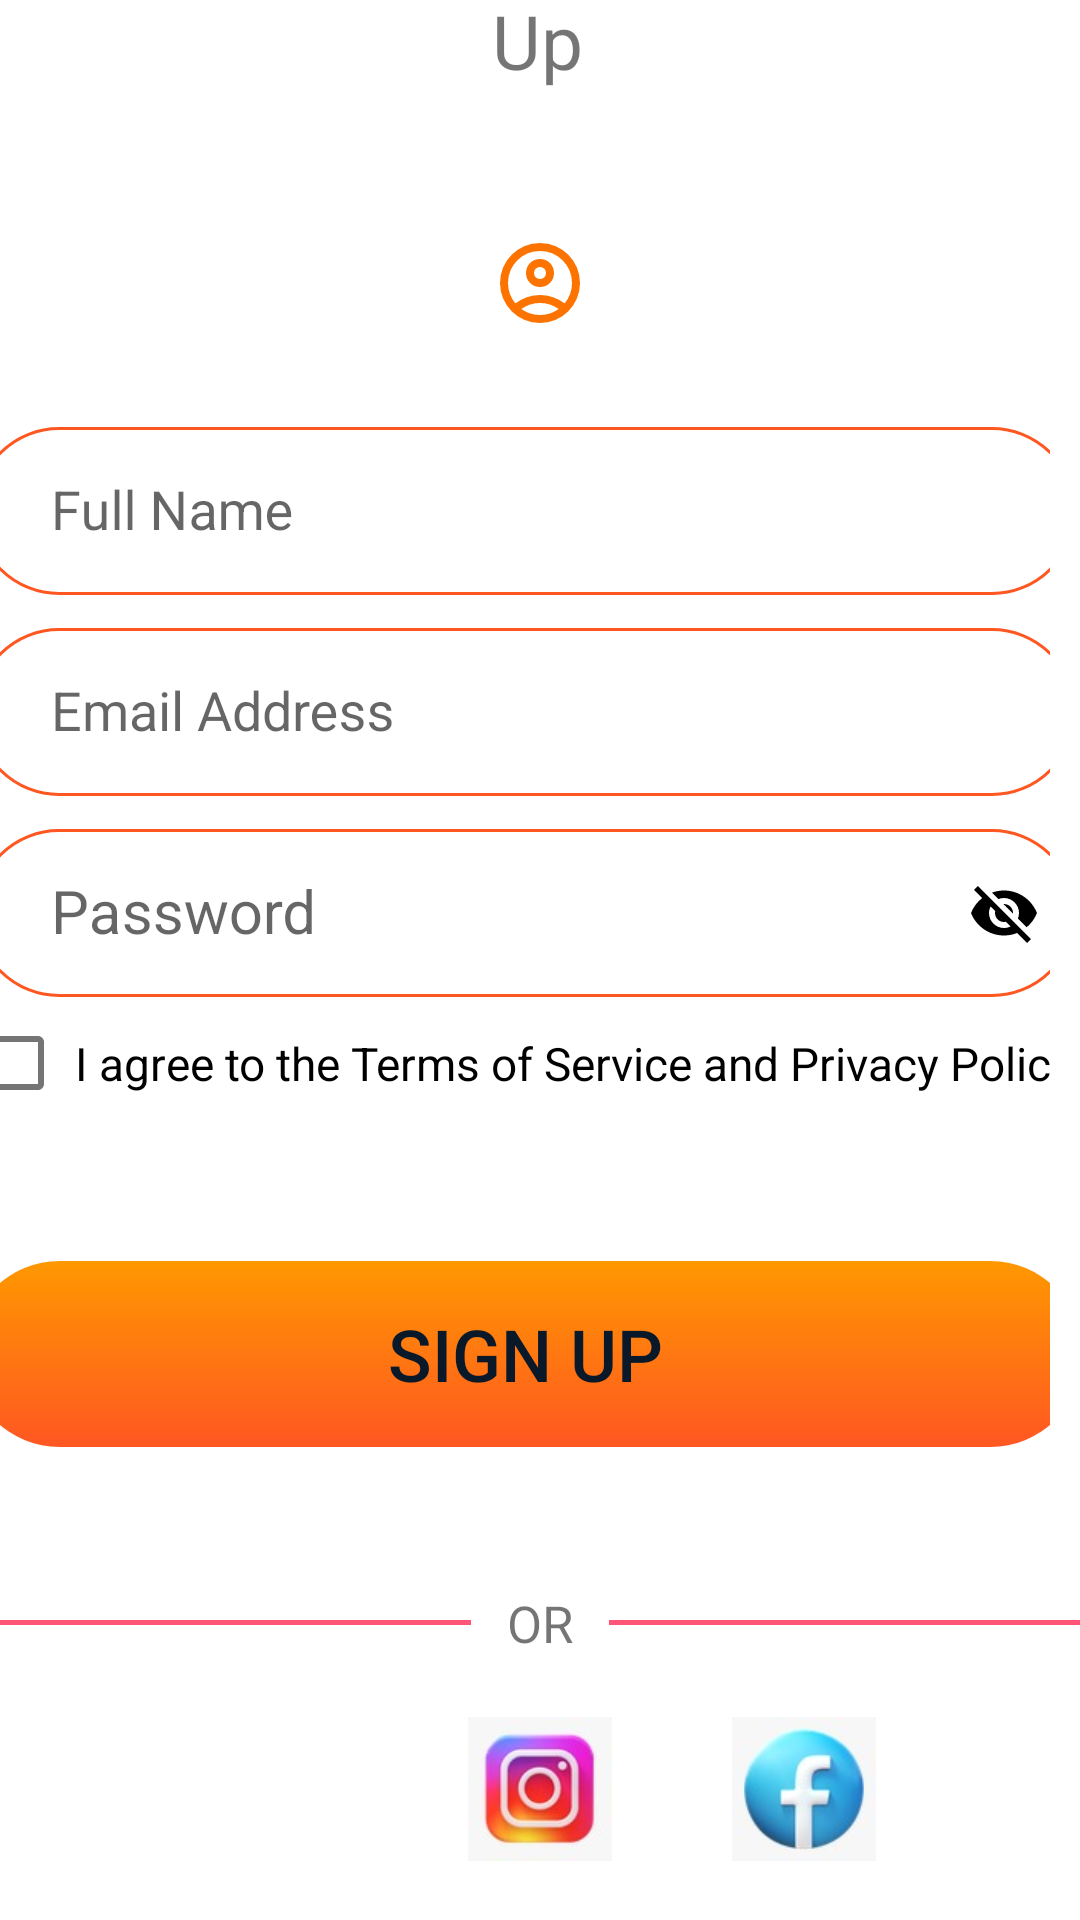

Icon click points for this 1080*1920 phone screenshot, format (x=x, y=y):
account circle: (x=540, y=283)
